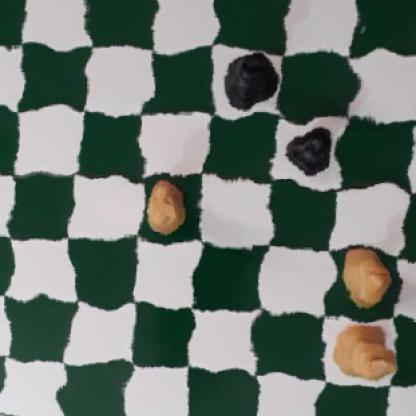black-king: (220, 45, 286, 111)
black-pawn: (288, 122, 339, 178)
white-bishop: (329, 250, 393, 306)
white-king: (323, 314, 397, 380)
white-rook: (142, 179, 191, 229)
